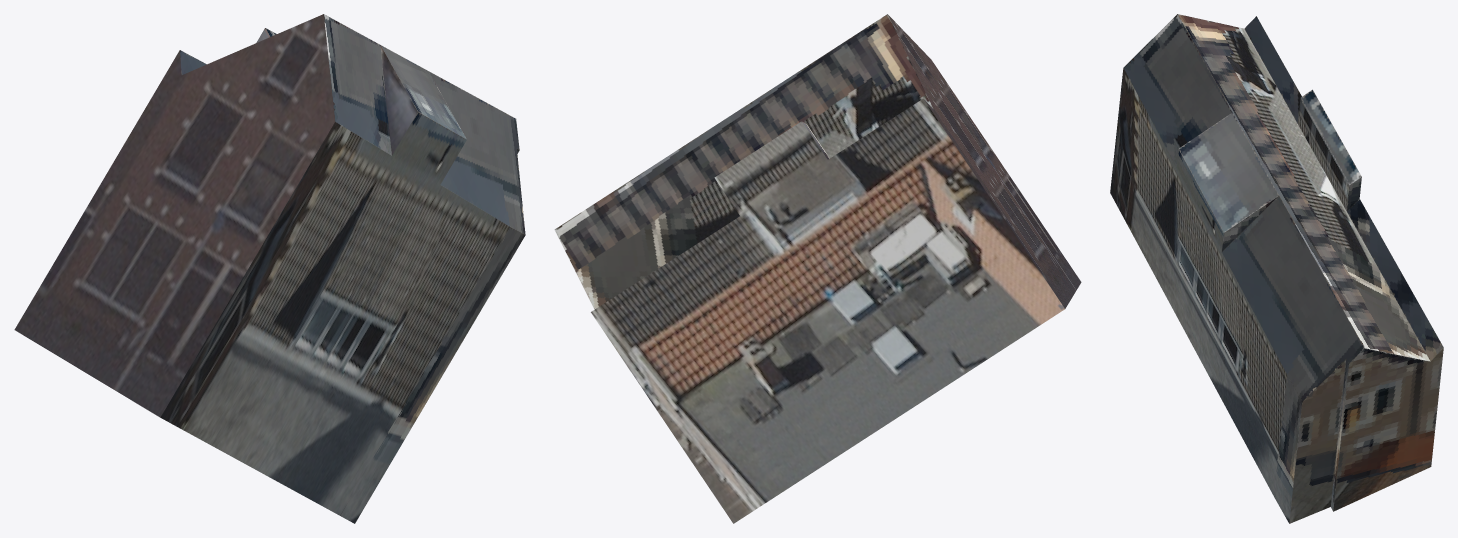
The picture shows the model from 3 angles, left to right: view 1: azimuth 30°, elevation 25°; view 2: azimuth 150°, elevation 25°; view 3: azimuth 270°, elevation 25°; orthographic projection. The views are drawn at different scales.
Visible parts, largest first — view 1: BAG_0599100000656925 (×4); view 2: BAG_0599100000656925 (×2); view 3: BAG_0599100000656925 (×5).
Part boxes in pixels (x1=…): BAG_0599100000656925 (×4): x1=14, y1=14, x2=525, y2=523; BAG_0599100000656925 (×2): x1=554, y1=14, x2=1081, y2=523; BAG_0599100000656925 (×5): x1=1110, y1=14, x2=1443, y2=523.
Size of the model in its own units: 16.16 by 15.67 by 10.08.
1 material, 1 textured.
